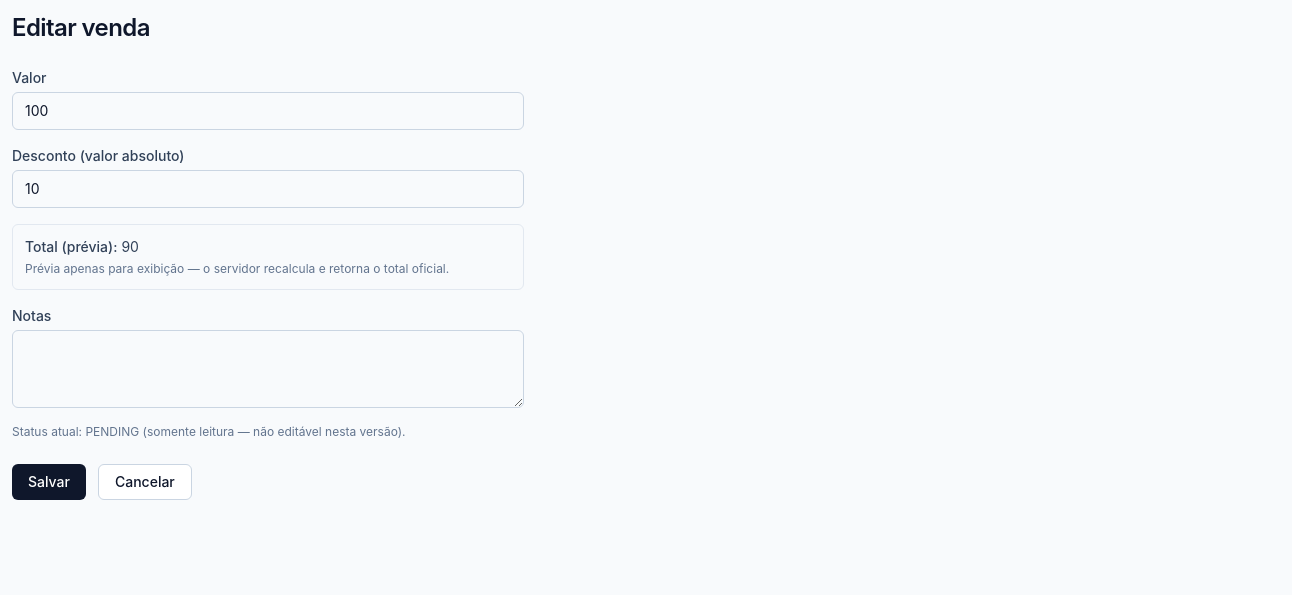
Test: SaleEditPage › shows a validation error message on submit failure
Check: the number field labelled "Valor" is shown, box 12,92 -> 524,130
Click the button "Salvar". click: (49, 482)
box: 12,464 -> 86,500
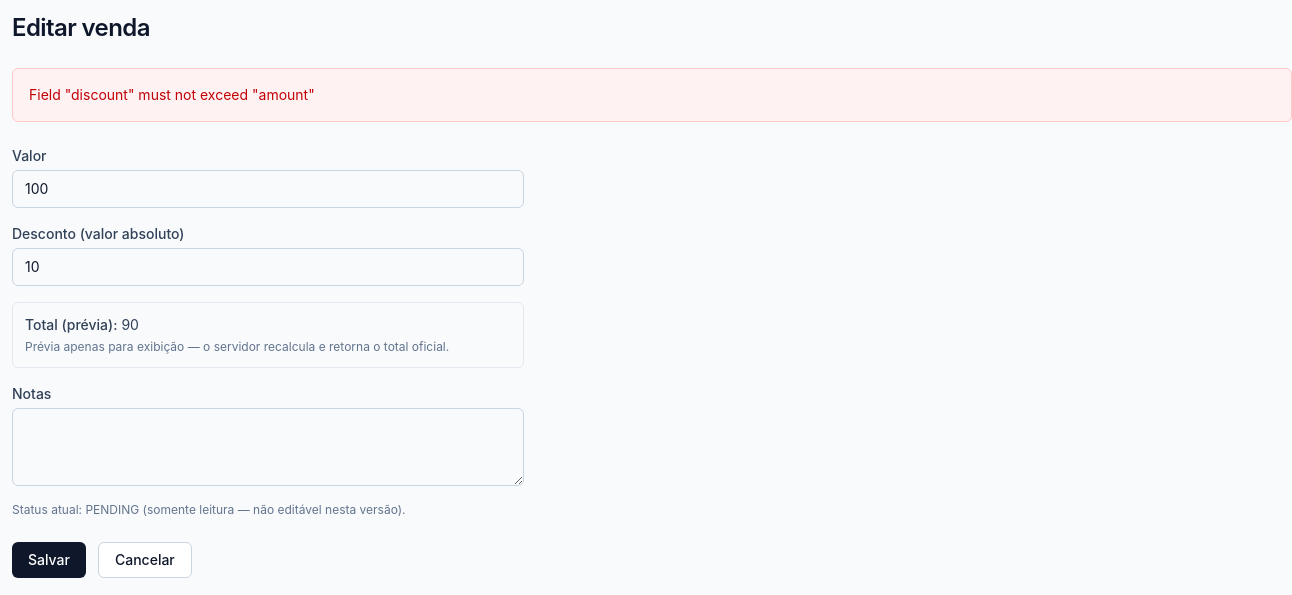
Check: the text "Field \"discount\" must not exceed \"amount\"" is shown, box 12,68 -> 1291,122
